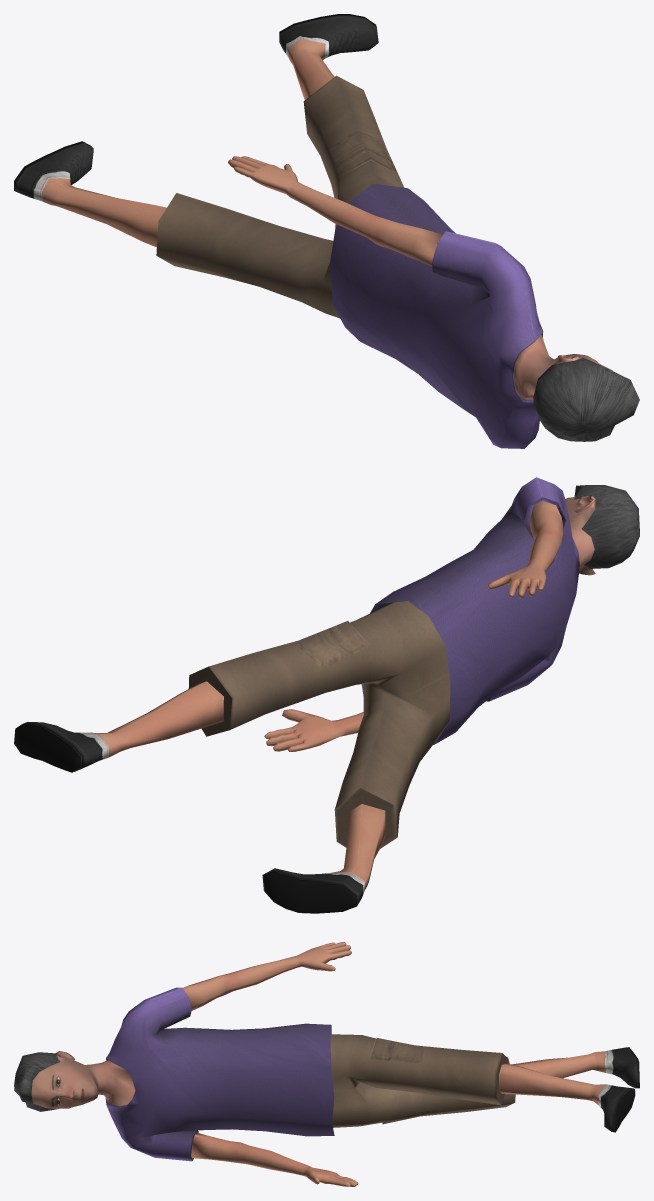
Rendered from walk.obj.
The picture shows the model from 3 angles, top to bottom: view 1: azimuth 30°, elevation 25°; view 2: azimuth 150°, elevation 25°; view 3: azimuth 270°, elevation 25°; orthographic projection. The views are drawn at different scales.
Bounding box in the file's own units: 0.8195 × 0.5019 × 1.74.
1 material, 1 textured.
